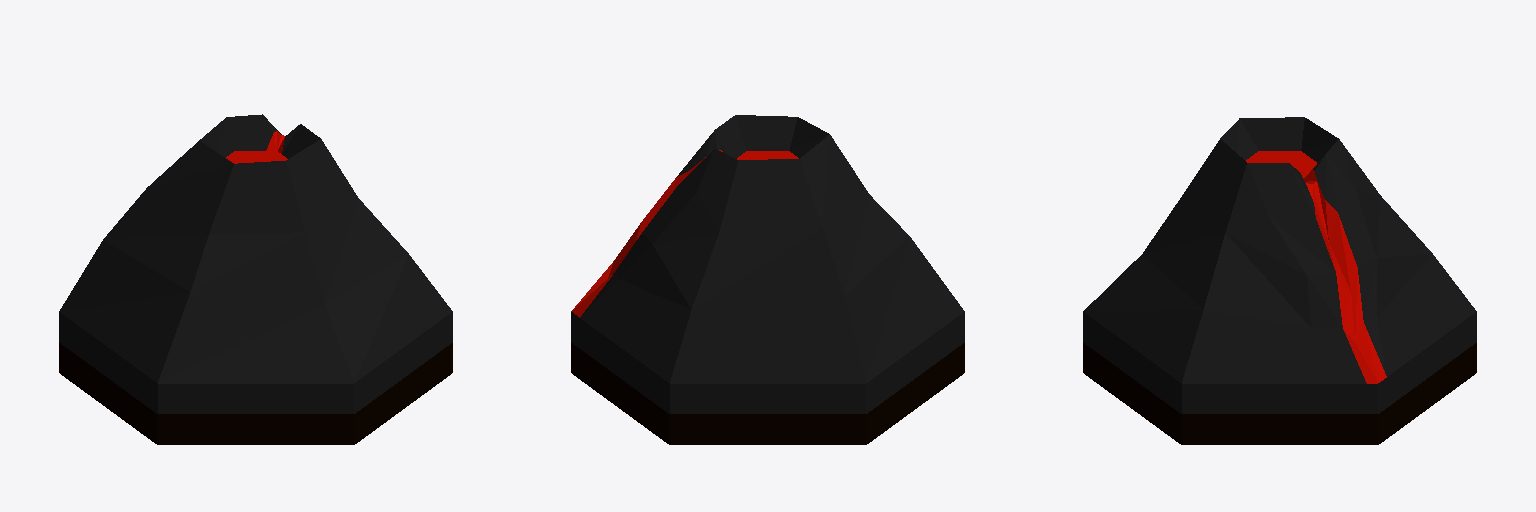
The model's file is volcano.obj.
The picture shows the model from 3 angles: view 1: azimuth 30°, elevation 25°; view 2: azimuth 150°, elevation 25°; view 3: azimuth 270°, elevation 25°; orthographic projection.
Parts seen in each view (by area): view 1: Hex; view 2: Hex; view 3: Hex.
Part boxes in pixels (left/top/right/bottom): Hex: left=59, top=114, right=452, bottom=444; Hex: left=571, top=115, right=964, bottom=444; Hex: left=1083, top=117, right=1476, bottom=444.
Size of the model in its own units: 1 by 0.7592 by 1.15.